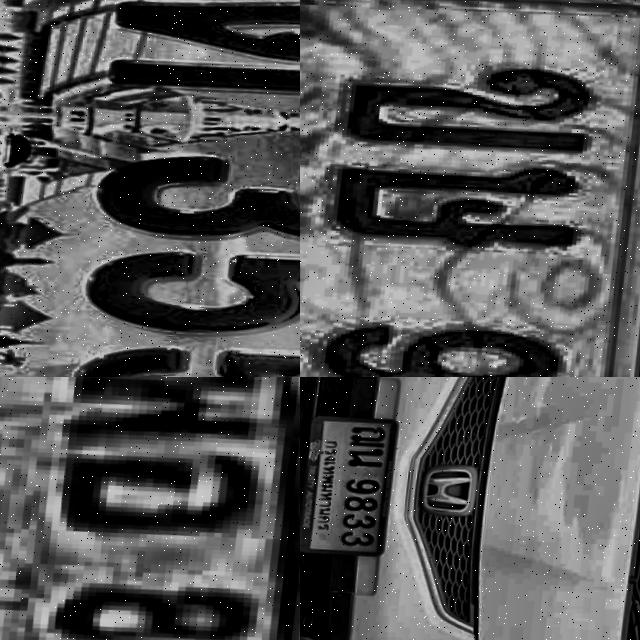license-plate: (300, 0, 640, 377), (0, 0, 300, 377), (0, 377, 300, 640), (300, 413, 400, 559)
